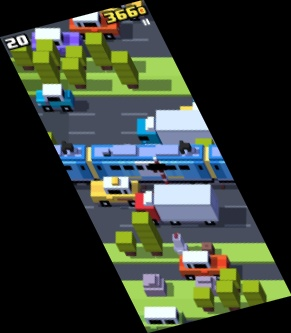car: (91, 175, 144, 206), (70, 7, 120, 38), (32, 27, 84, 55), (36, 83, 76, 112), (144, 306, 188, 332), (101, 1, 145, 22), (180, 101, 217, 123)
duck: (171, 233, 189, 258)
light off: (149, 155, 174, 192)
rock: (141, 273, 166, 297), (196, 275, 221, 299)
stump: (201, 242, 216, 255)
train: (51, 142, 239, 183)
tree: (130, 210, 163, 256), (84, 32, 114, 70), (110, 51, 139, 89), (32, 51, 62, 87), (60, 58, 88, 89), (35, 40, 63, 70), (242, 281, 269, 312), (215, 281, 241, 312), (11, 39, 36, 71), (40, 130, 63, 161), (218, 268, 243, 295), (115, 230, 138, 258), (197, 139, 221, 164), (65, 46, 89, 69), (193, 289, 215, 312)
truck: (136, 107, 225, 149), (134, 184, 220, 226)
